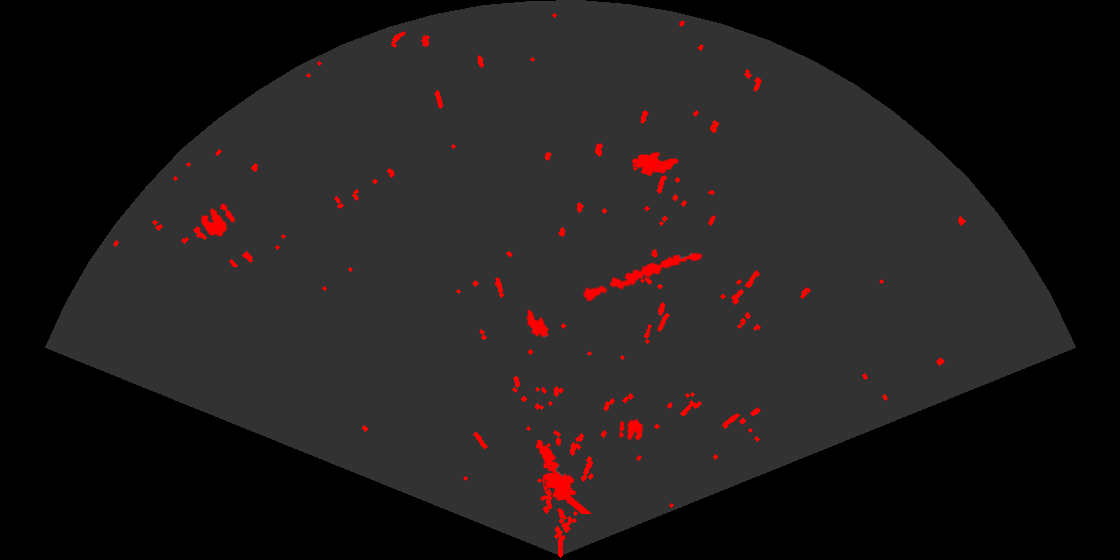AUV: (630, 151, 680, 178), (525, 308, 550, 339)
ball: (199, 202, 237, 238), (617, 418, 645, 442)
chain: (581, 251, 704, 303)
frogman: (534, 438, 592, 514)
